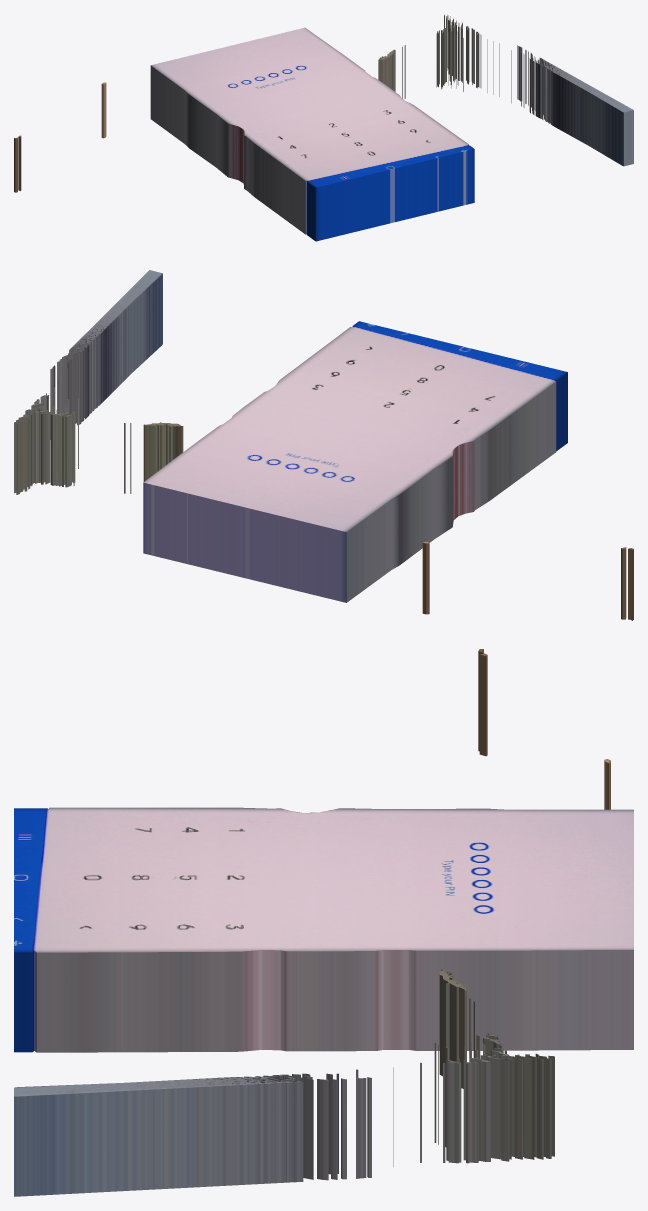
File: Builder20220303192055.glb
3 renders of one model, top to bottom at view 1: azimuth 30°, elevation 25°; view 2: azimuth 150°, elevation 25°; view 3: azimuth 270°, elevation 25°, orthographic. The views are drawn at different scales.
Bounding box in the file's own units: 0.2352 × 0.0245 × 0.1377.
Materials: 1 (1 with a texture image).
